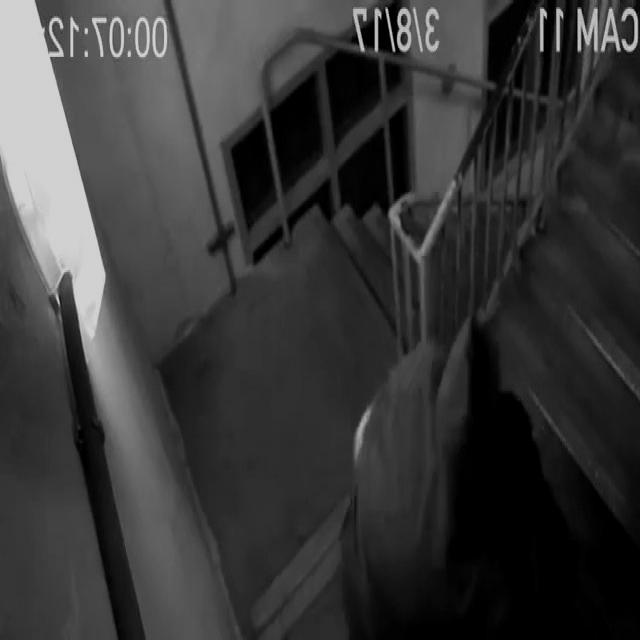fight: (300, 301, 620, 640)
